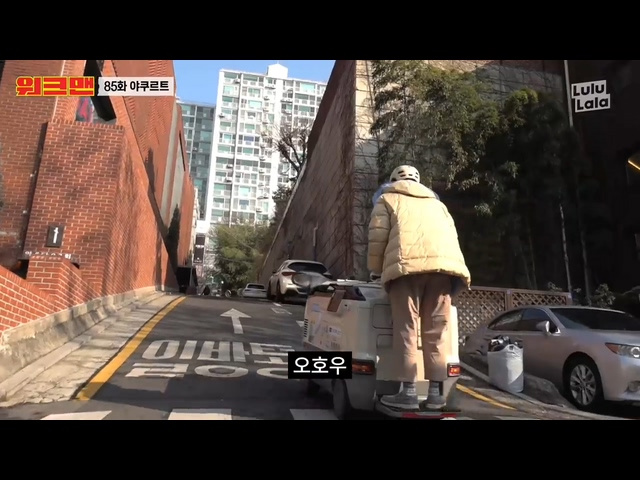Yakurut: (365, 172, 471, 408)
